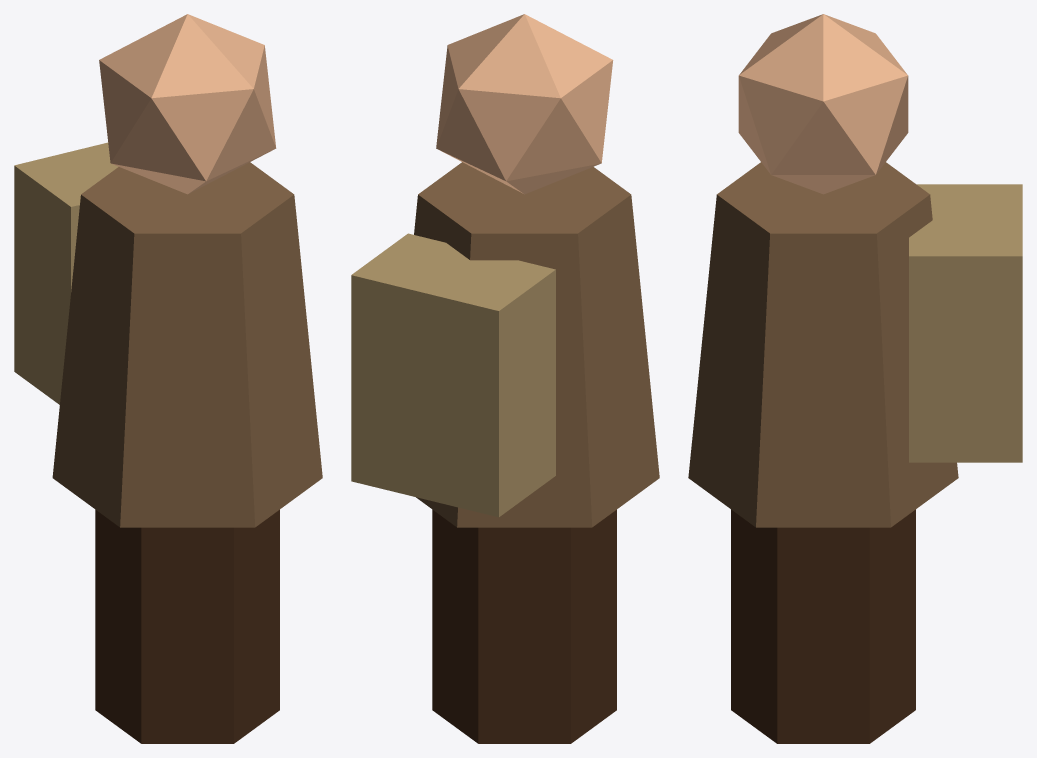
The model's file is settler.fbx.
The picture shows the model from 3 angles, left to right: view 1: azimuth 30°, elevation 25°; view 2: azimuth 150°, elevation 25°; view 3: azimuth 270°, elevation 25°; orthographic projection.
Visible parts, largest first — view 1: settler; view 2: settler; view 3: settler.
Boxes of the visible parts, left/top/right/bottom form: settler: left=14, top=14, right=322, bottom=743; settler: left=351, top=14, right=659, bottom=743; settler: left=688, top=14, right=1022, bottom=743.
Size of the model in its own units: 0.1645 by 0.54 by 0.235.
